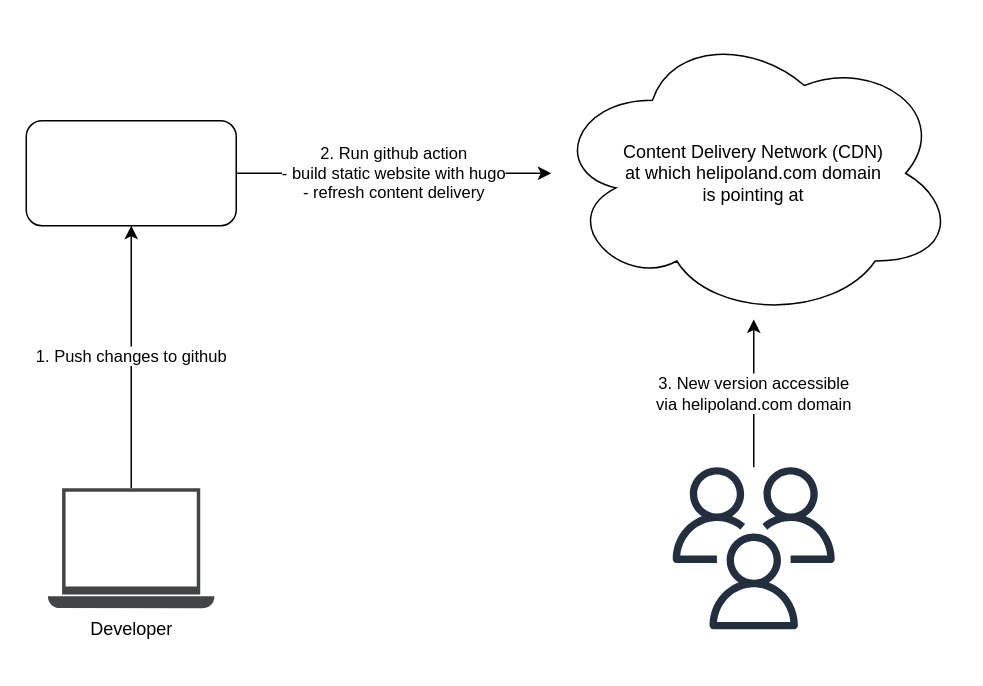
Some shapes in this 983 by 686 pixel diagram are drawn without their labels. The shapes that lost their labels are listed below. From the top down, each one's centre as x and y in pixels, then its label:
At [130,172]: "Helipoland repo on Github".
At [753,547]: "Users".
